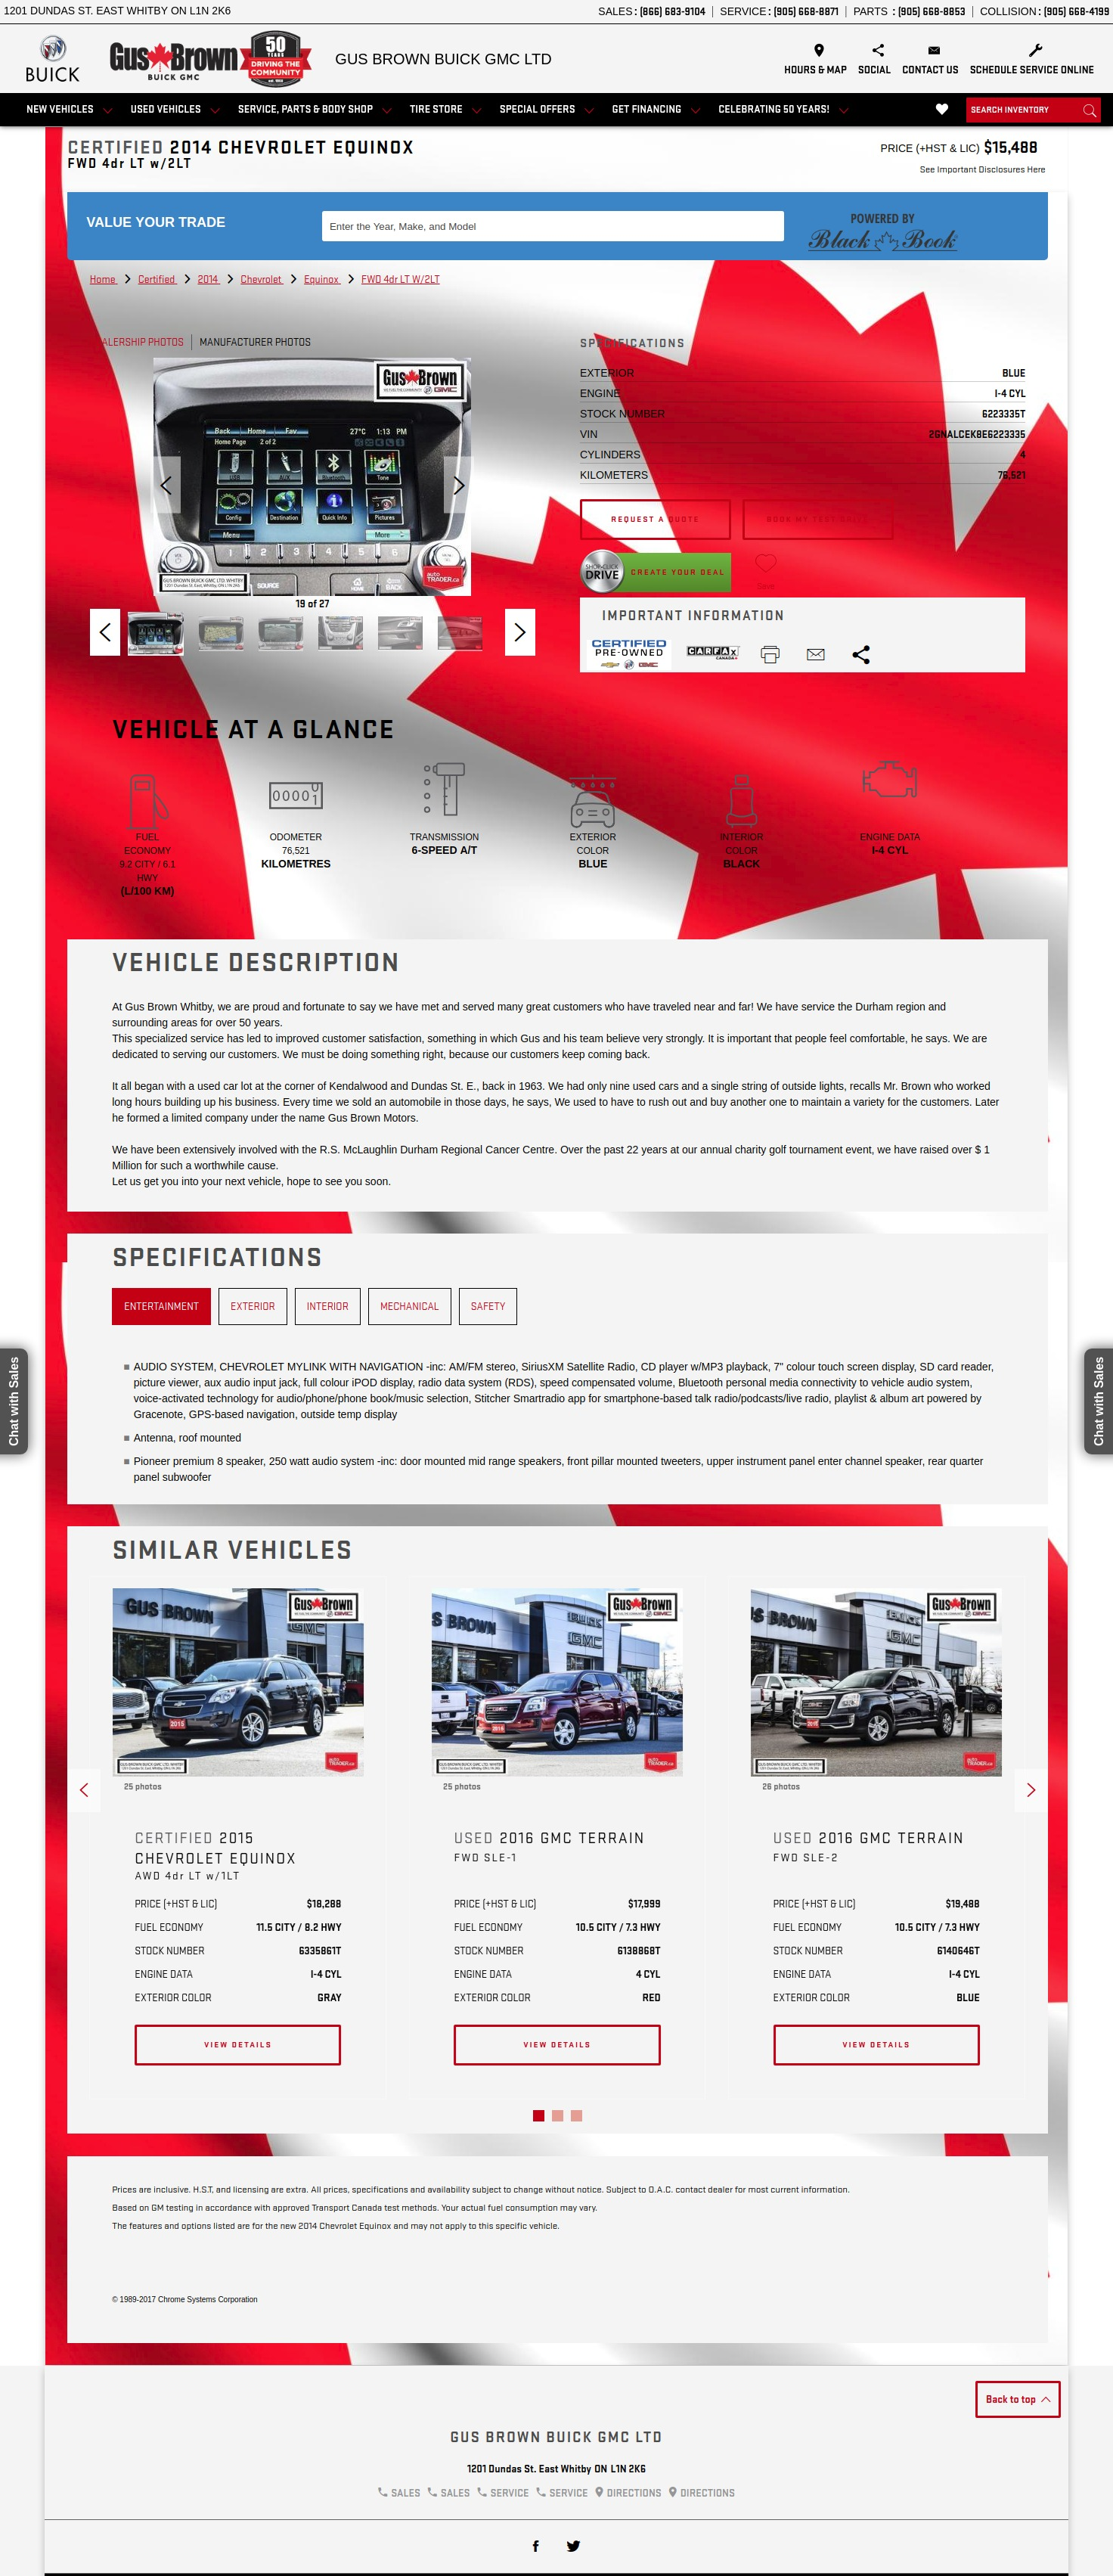car: (515, 623, 527, 642)
